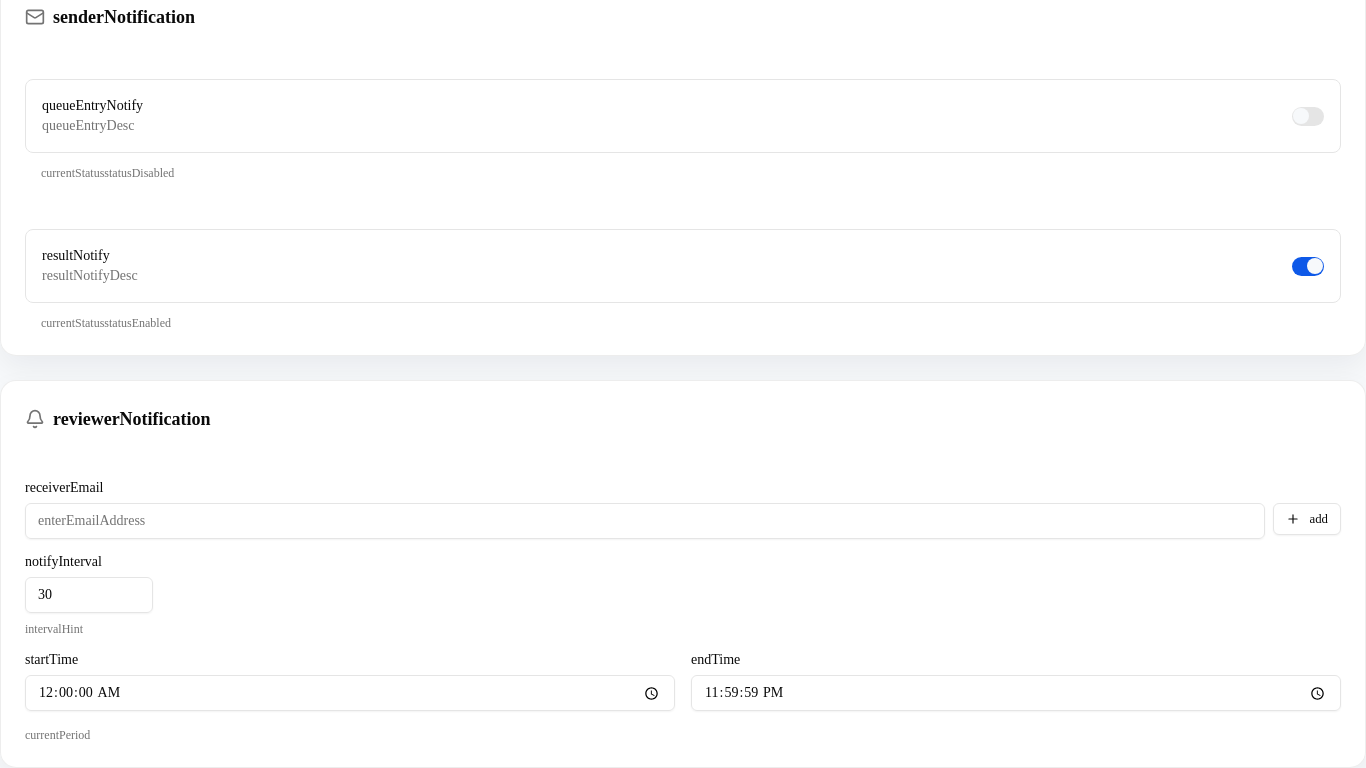
Scenario: ReviewSettingsTab reviewer email validation feedback (GT-12250) › clears the error once the user edits the field again
(page scrolled)
Type "bad" into the field with test id "disposal-settings-reviewer-email-input" at (645, 521), box left=25, top=503, right=1264, bottom=539
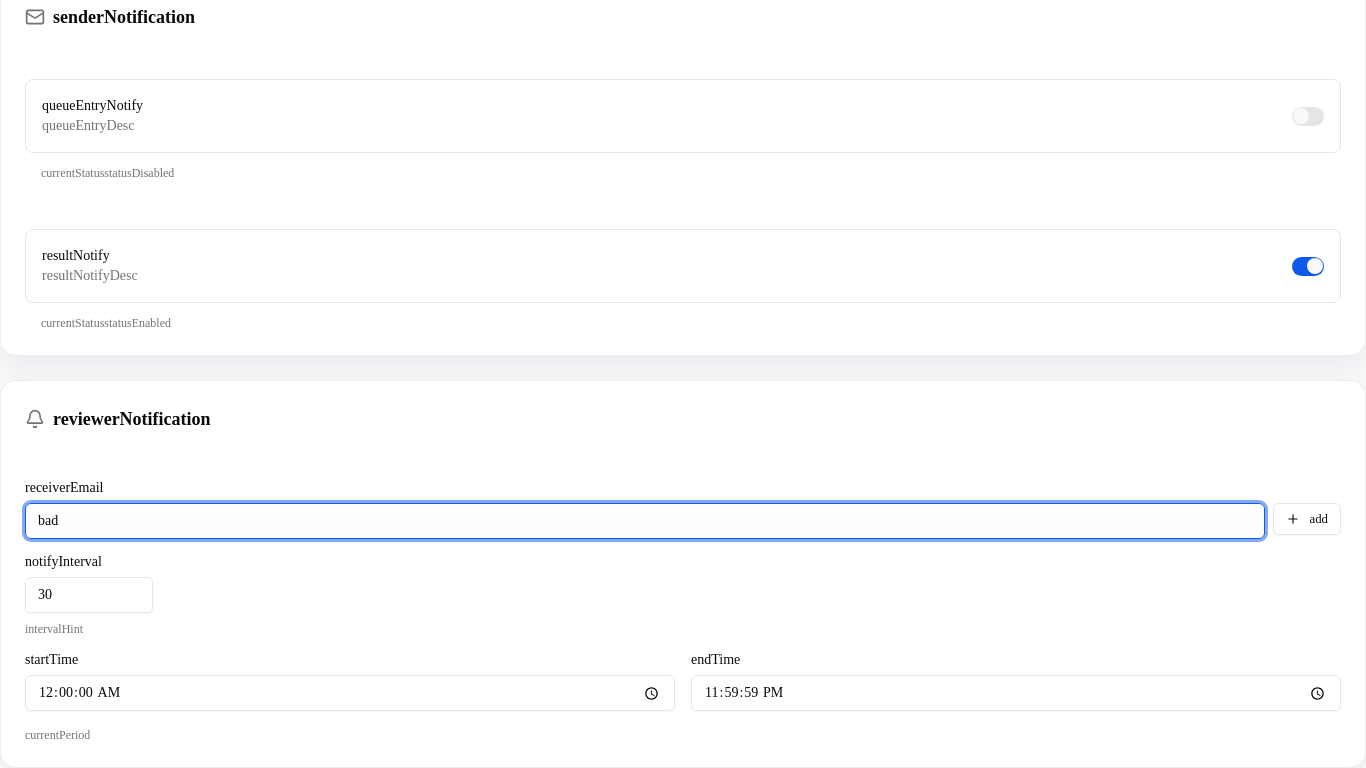
Click the button with test id "disposal-settings-reviewer-email-add" at (1307, 519), box left=1272, top=503, right=1341, bottom=535
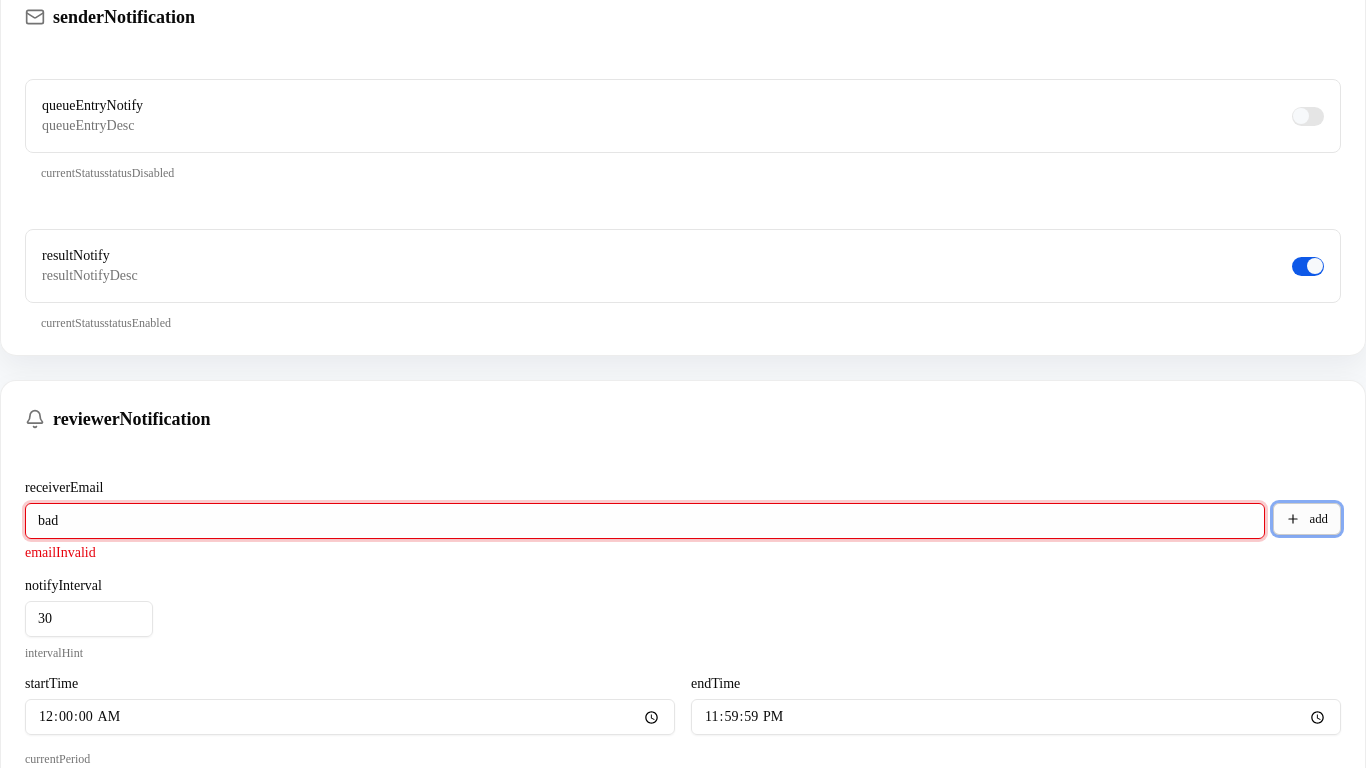
Check: the message "emailInvalid" is shown, box left=25, top=545, right=96, bottom=560
Type "x" into the field with test id "disposal-settings-reviewer-email-input" at (645, 521), box left=25, top=503, right=1264, bottom=539
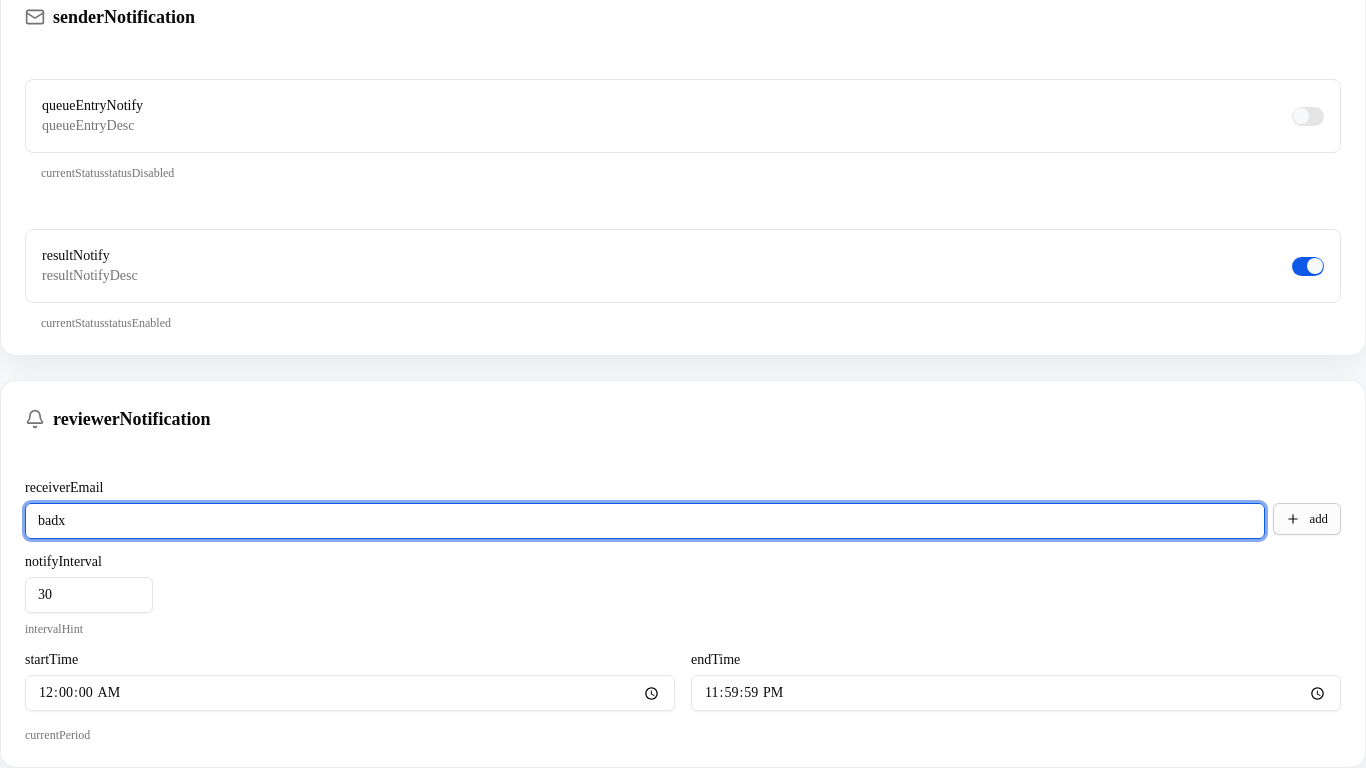
Check: the message with test id "disposal-settings-reviewer-email-error" is gone
